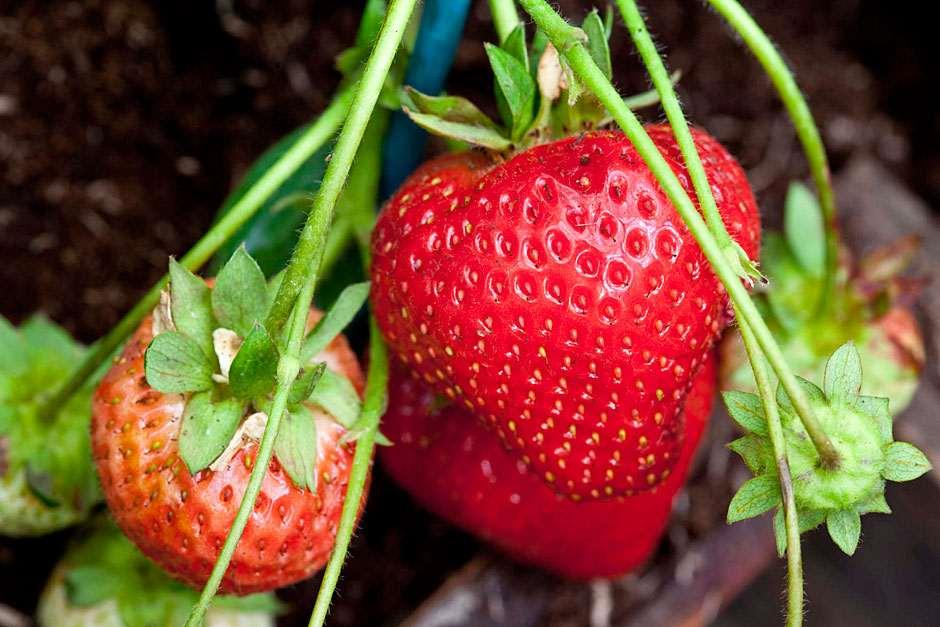ripe_strawberry: (364, 116, 768, 503), (374, 340, 722, 583)
unripe_strawberry: (92, 256, 376, 599)
